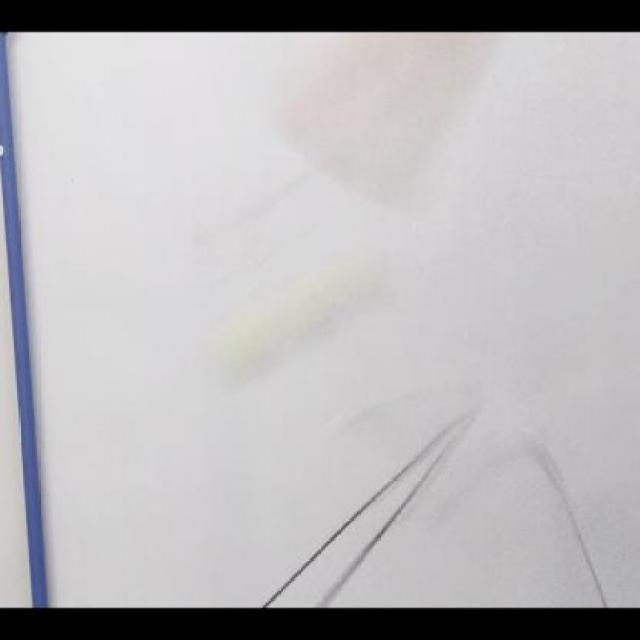baseball: (218, 285, 356, 383)
